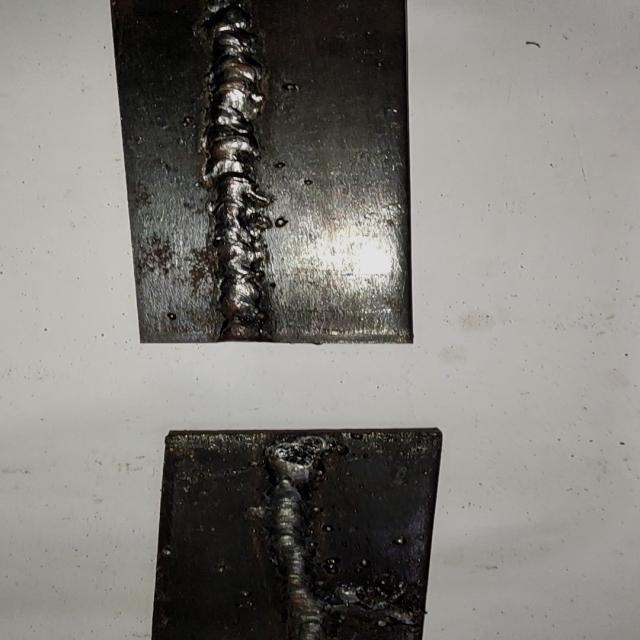Bad Weld: (265, 437, 326, 640)
Defect: (260, 576, 421, 631), (254, 432, 350, 473)
Good Weld: (206, 6, 273, 338)
